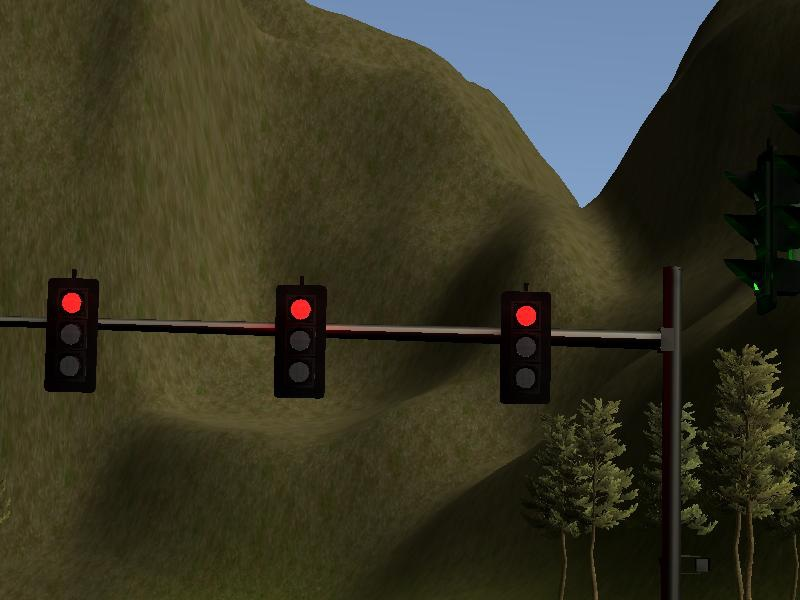Red: (43, 278, 100, 393), (272, 284, 329, 399), (497, 291, 554, 406)
